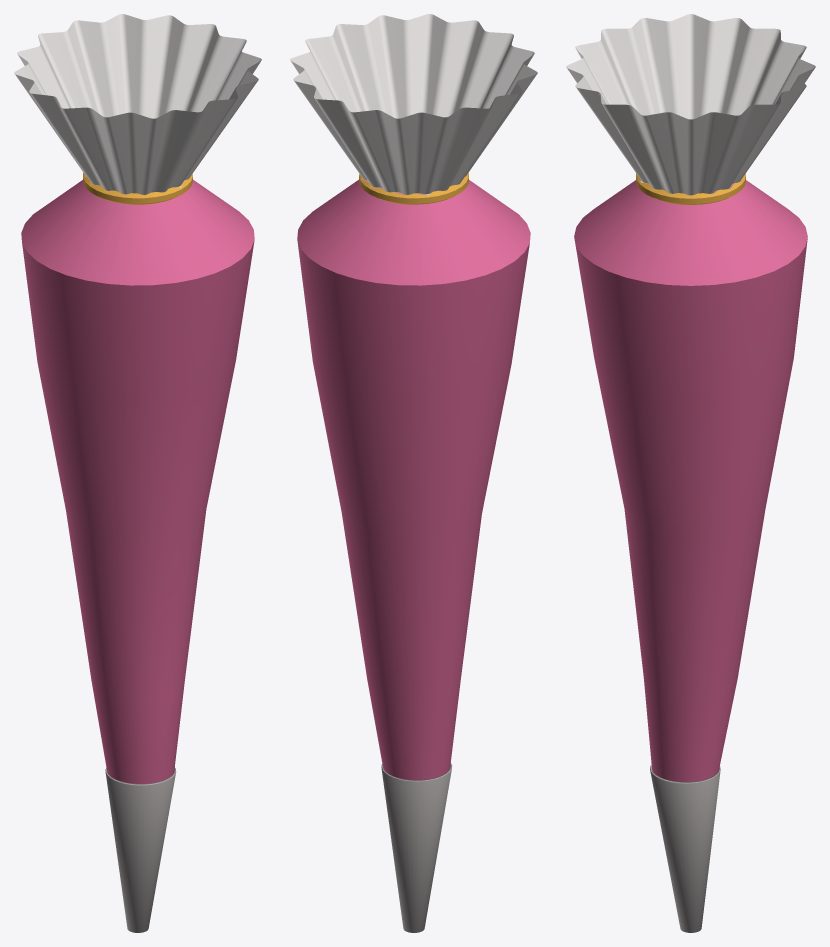
The model's file is strawberry.fbx.
3 views of the same model, side by side, from view 1: azimuth 30°, elevation 25°; view 2: azimuth 150°, elevation 25°; view 3: azimuth 270°, elevation 25° (orthographic).
Parts seen in each view (by area): view 1: Cylinder.001, Cylinder.002; view 2: Cylinder.001, Cylinder.002; view 3: Cylinder.001, Cylinder.002.
Part boxes in pixels (x1,y1,x2,y2): Cylinder.001: [14, 14, 261, 783]; Cylinder.002: [105, 767, 176, 932]; Cylinder.001: [290, 14, 537, 780]; Cylinder.002: [381, 763, 452, 932]; Cylinder.001: [566, 14, 815, 782]; Cylinder.002: [650, 765, 720, 932].
Bounding box in the file's own units: 111 × 421 × 111.
Materials: 1 (1 with a texture image).
